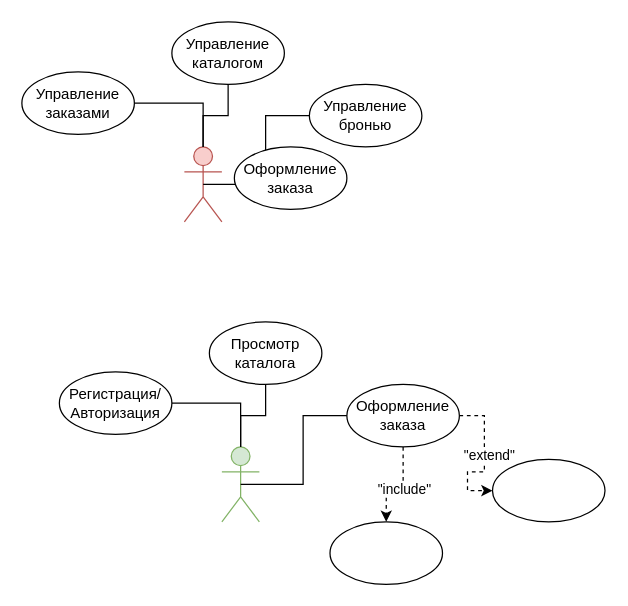
This 628x606 diagram has some shape labels left out. Each missing label, with the centre of its shape:
Администратор: the point at 202,184
Добавление товара: the point at 385,552
Пользователь: the point at 240,484
Способы оплаты: the point at 548,490
